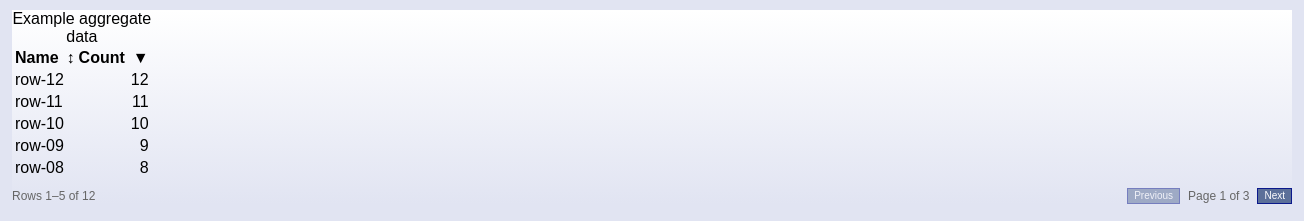
Test: AnalyticsDataTable › sorts semantic columns and paginates all rows
The width and height of the screenshot is (1304, 221).
Expected: the text "Rows 1–5 of 12" is shown, 12,189 -> 95,203
Expected: the text "row-12" is shown, 14,70 -> 76,90
Click the button "Count ▼" at x=114, y=58, box 79,49 -> 149,67
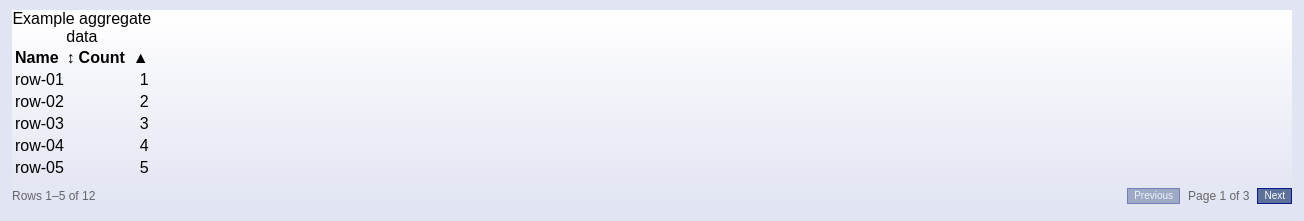
Now the text "row-01" is shown, box 14,70 -> 76,90
Click the button "Next" at x=1275, y=196, box 1257,188 -> 1292,204
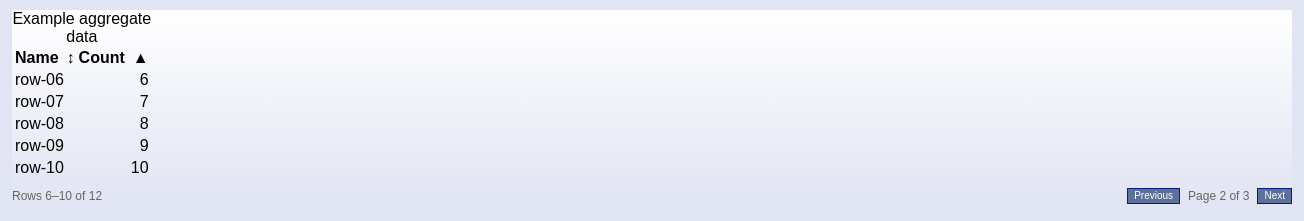
Now the text "Rows 6–10 of 12" is shown, box 12,189 -> 102,203
